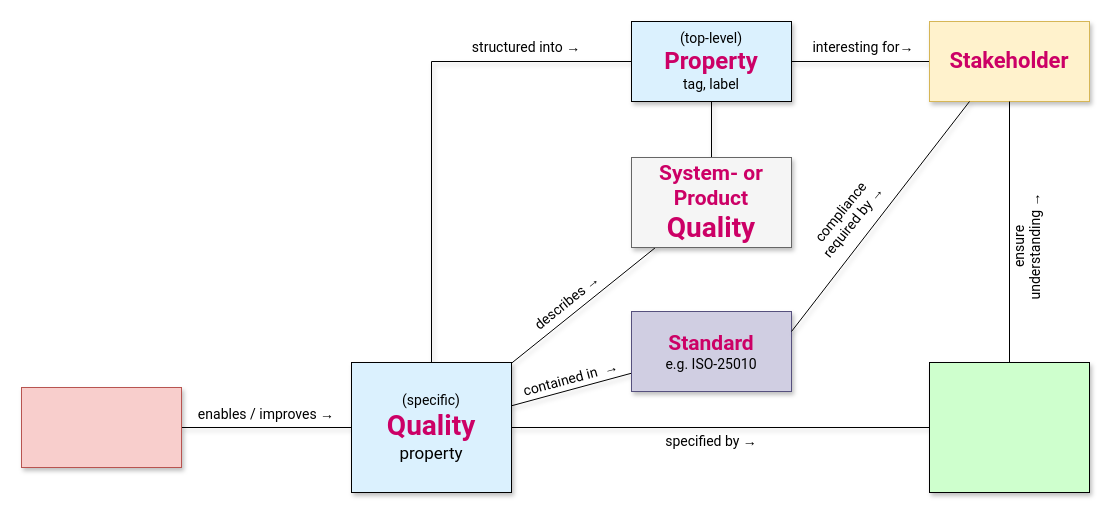
This 1113x517 diagram has some shape labels left out. The shapes that lost their labels are listed below. From the top down, each one's centre as x and y in pixels, then its label:
At point (102, 428): "Approach Pattern, Tactic, Strategy".
At point (1010, 429): "Example Requirement with metric / acceptance criterion".
